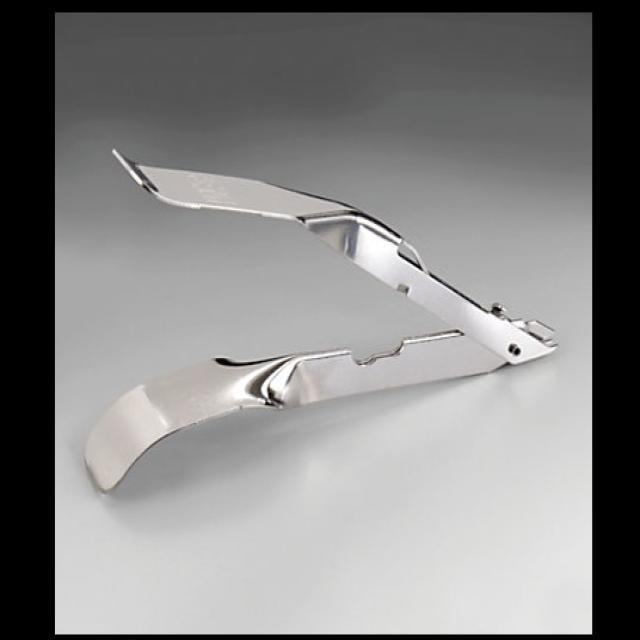Stapler Remover: (77, 127, 564, 500)
